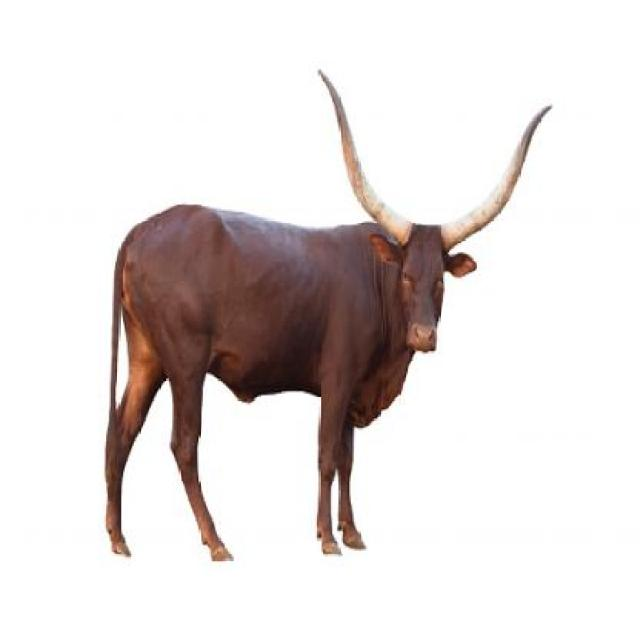Cow: (100, 69, 555, 568)
